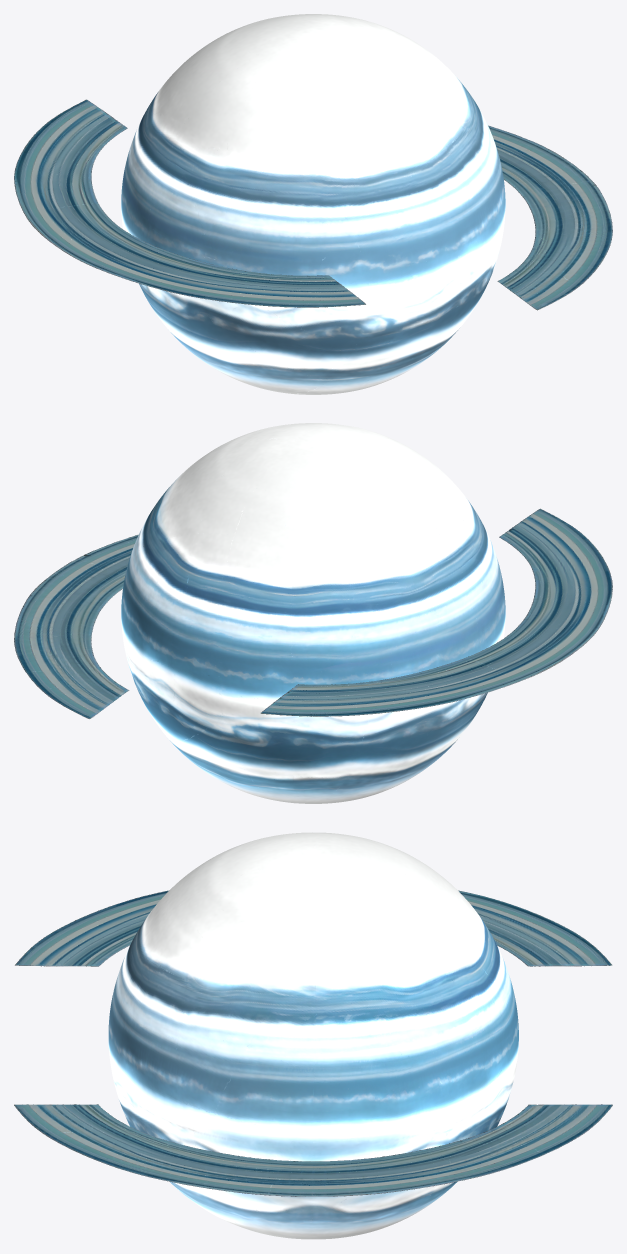
Rendered from neptune.glb.
The picture shows the model from 3 angles, top to bottom: view 1: azimuth 30°, elevation 25°; view 2: azimuth 150°, elevation 25°; view 3: azimuth 270°, elevation 25°; orthographic projection. The views are drawn at different scales.
Size of the model in its own units: 1.9 by 1.19 by 1.77.
Materials: 1 (1 with a texture image).
